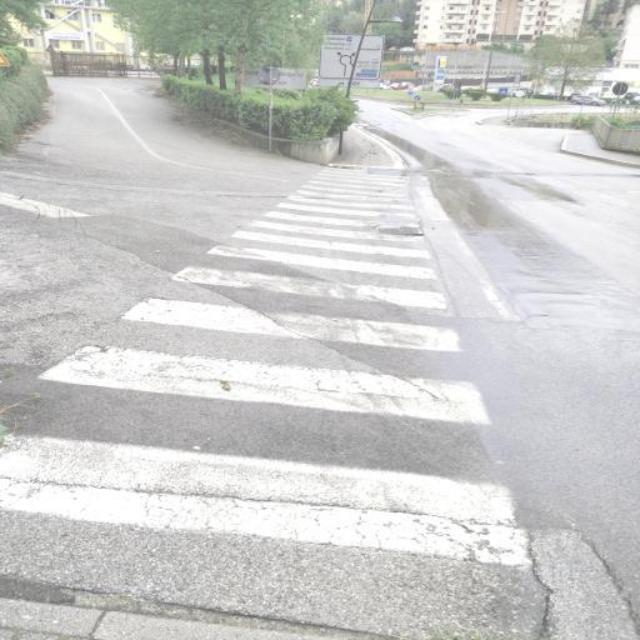sidewalk: (0, 164, 530, 573)
